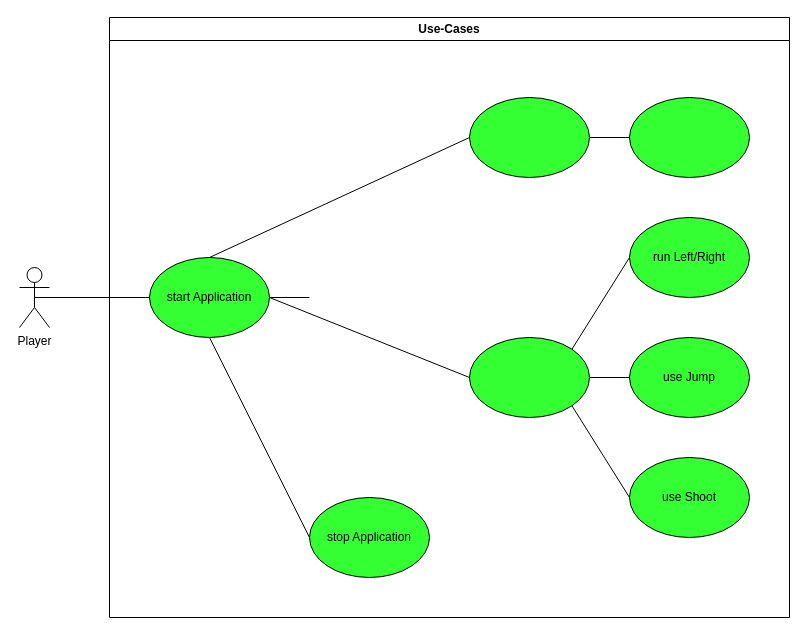
This 807x635 diagram has some shape labels left out. The shapes that lost their labels are listed below. From the top down, each one's centre as x and y in pixels, then its label:
At point 529,137: "change Settings".
At point 689,137: "choose Settings to change".
At point 529,377: "play Game".
